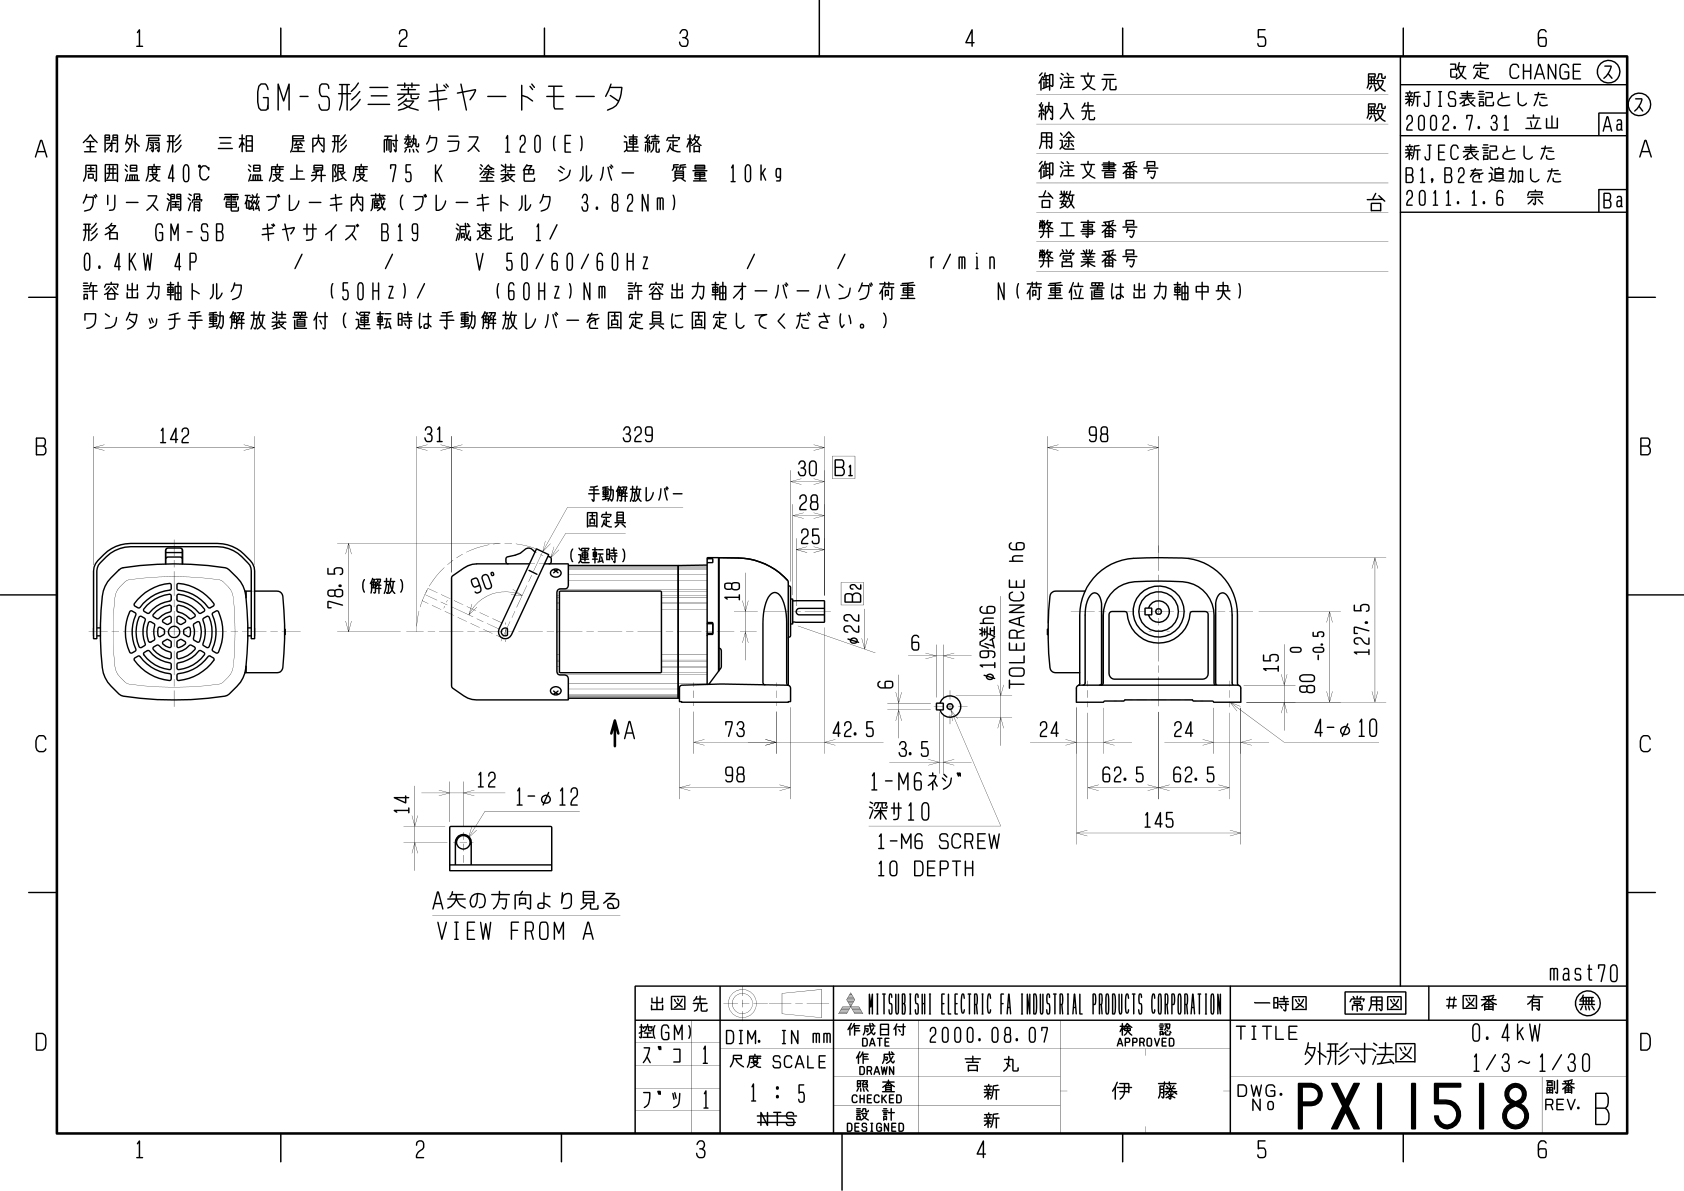GM_S_手動ブレーキ＿三相_脚: (9, 12, 1669, 1183)
